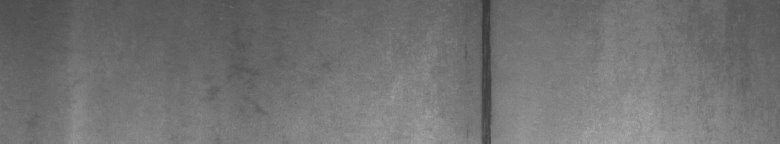hd: (465, 4, 497, 136)
